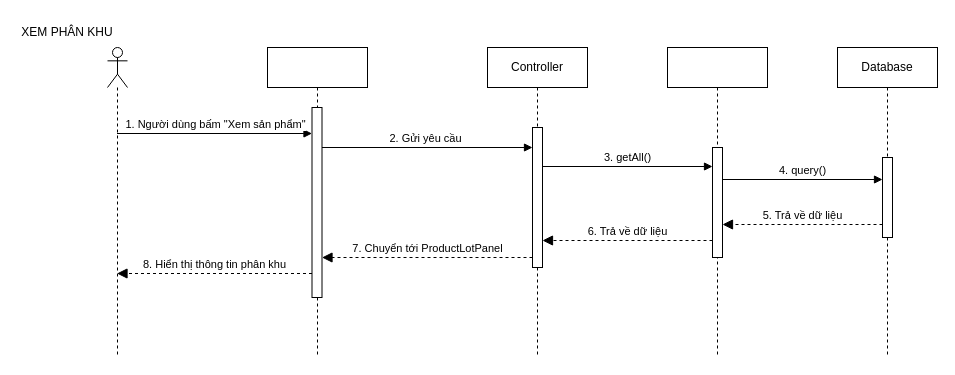
Image size: 955x375. Some labels were removed from this diagram. Each missing label, with the box of its shape:
ProductLotDao: (666, 46, 768, 358)
View: (266, 46, 368, 358)
